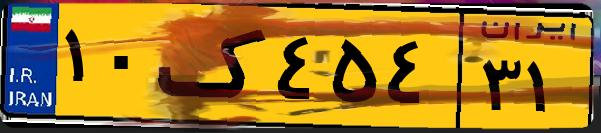0: (110, 28, 158, 98)
1: (57, 26, 110, 100), (525, 38, 570, 115)
3: (475, 38, 525, 113)
4: (270, 28, 330, 110), (385, 28, 445, 110)
5: (330, 28, 385, 110)
ک: (158, 12, 270, 120)
